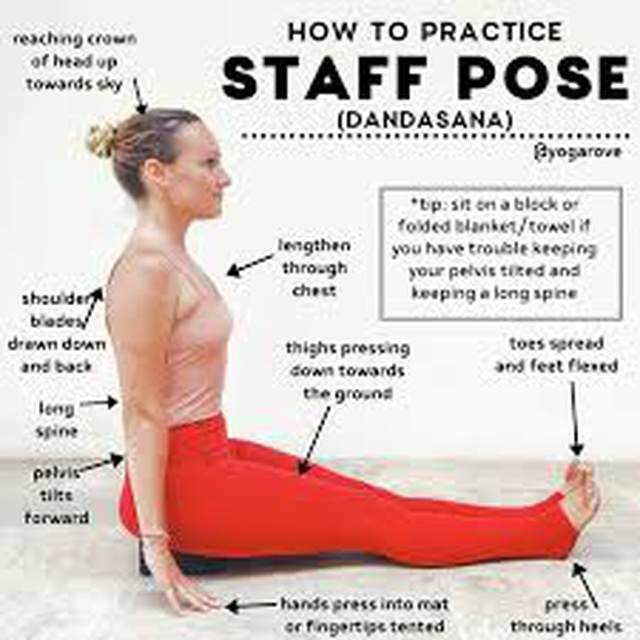Staff_Pose: (85, 107, 603, 618)
